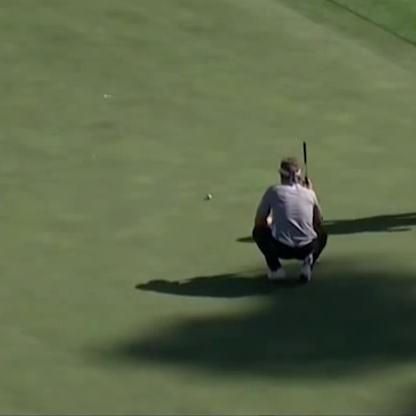golfball: (203, 191, 213, 201)
